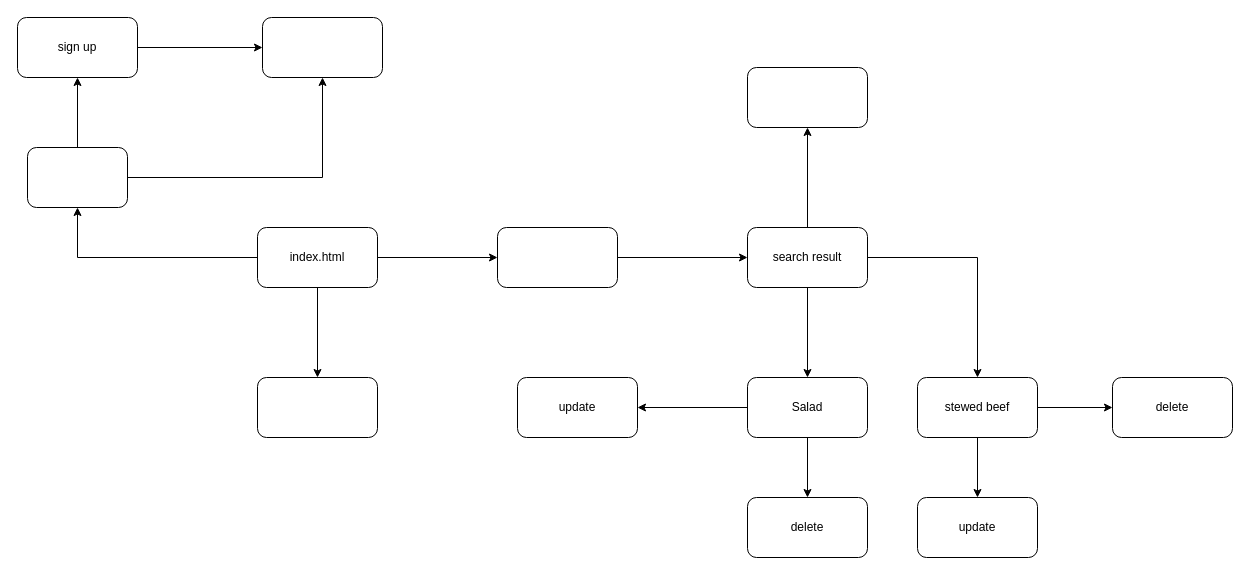
This 1250x575 diagram has some shape labels left out. Each missing label, with the centre of its shape:
"add new" belongs at (807,97).
"contact" belongs at (317,407).
"login" belongs at (77,177).
"myAcount" belongs at (322,47).
"search" belongs at (557,257).
